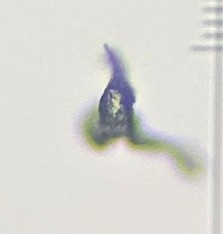microplastic: (81, 43, 210, 180)
